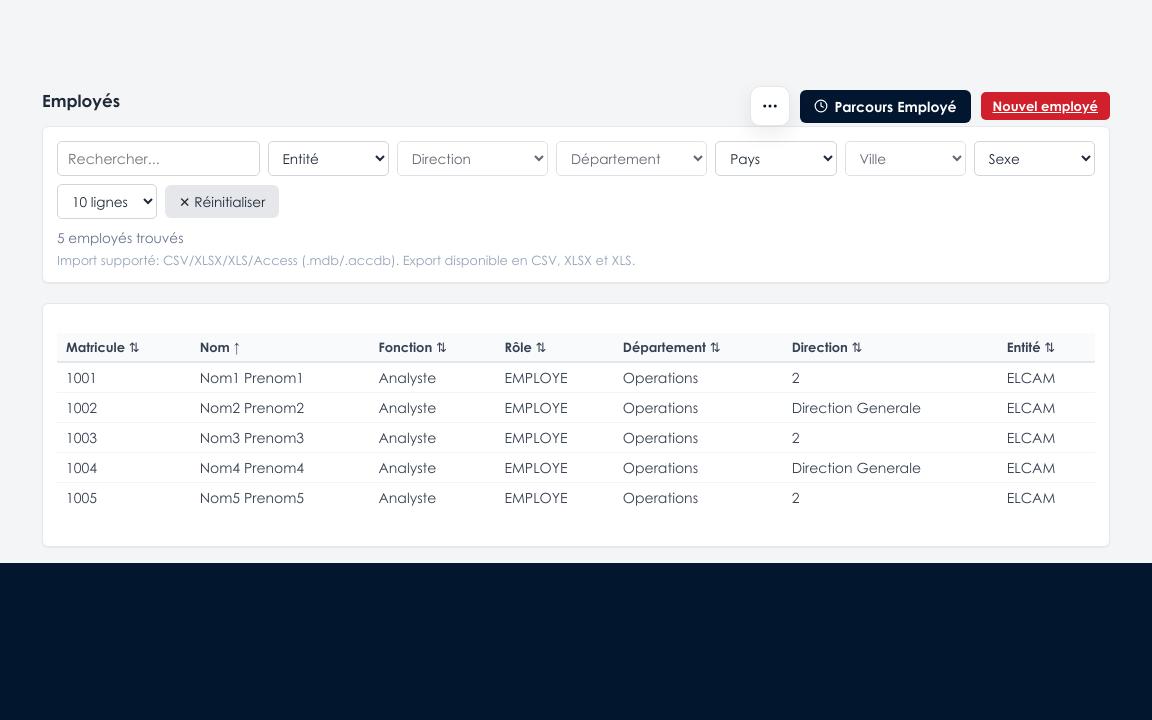
Test case: Employees page › filters employees by sexe (Masculin / Féminin)
This screenshot has width=1152, height=720.
Expected: the text "5 employés trouvés" is shown, [57,229,184,246]
Step 1. Select "Masculin" in the dropdown named "filtrer par sexe" → (1034, 158), box [974,141,1095,176]
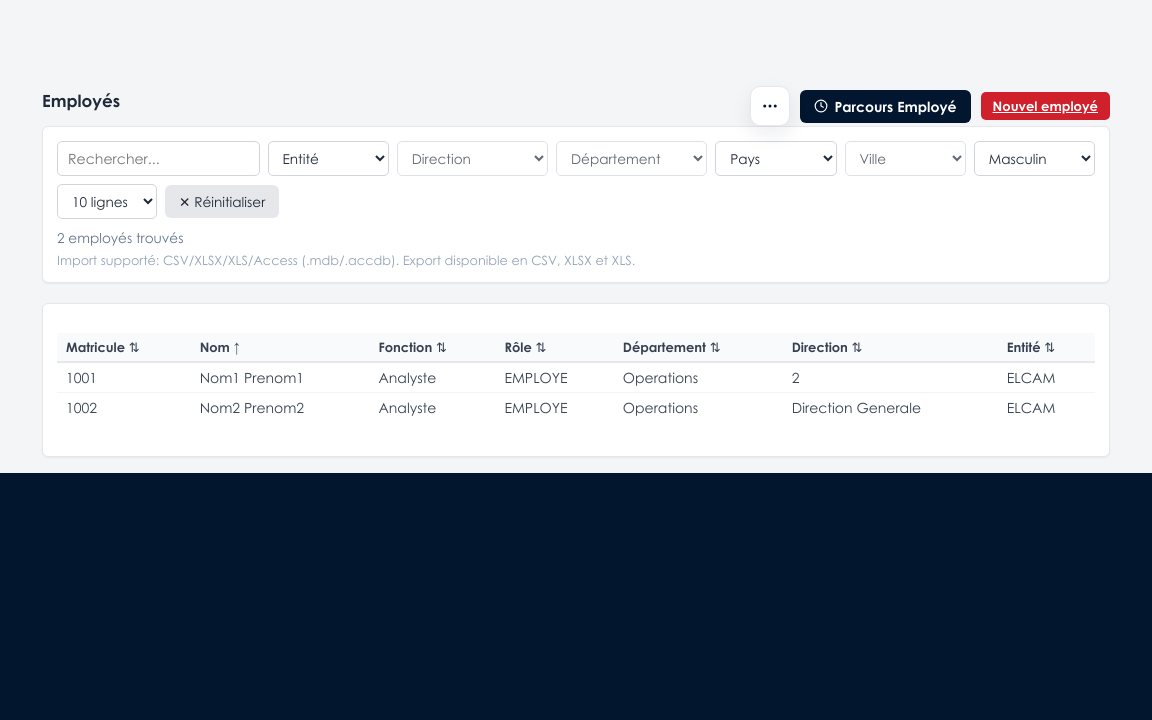
Result: the text "2 employés trouvés" is shown at [57,229,184,246]
Step 2. Select "Féminin" in the dropdown named "filtrer par sexe" → (1034, 158), box [974,141,1095,176]
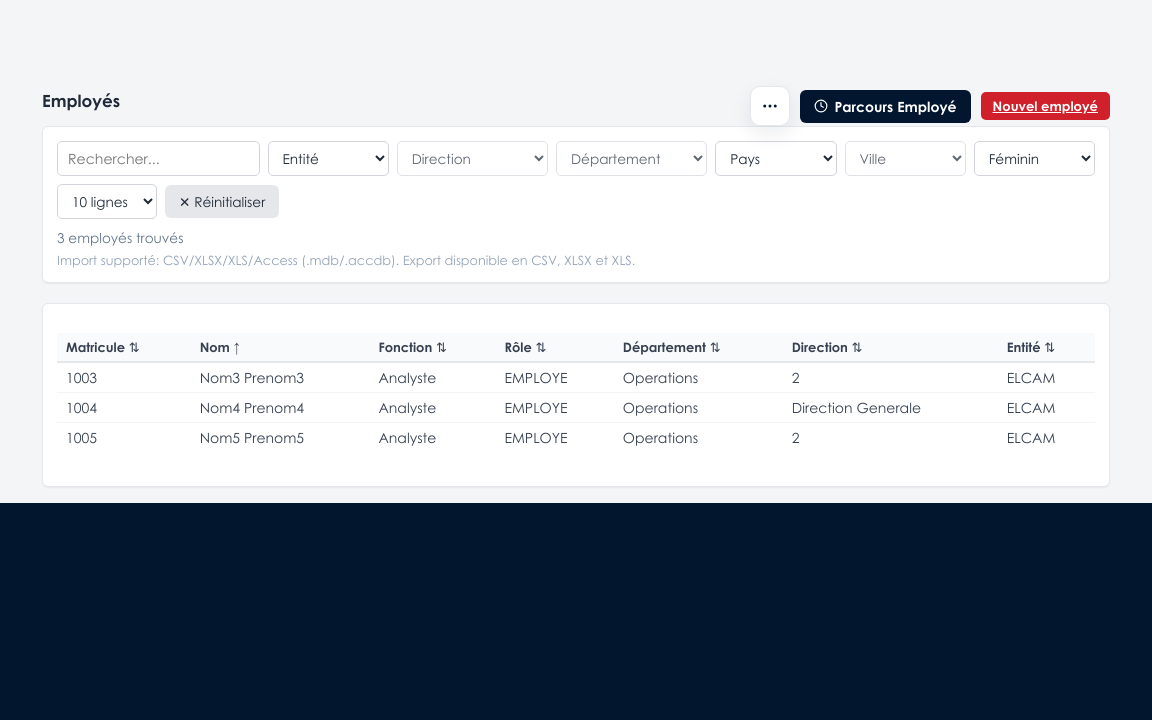
Result: the text "3 employés trouvés" is shown at [57,229,184,246]
Step 3. Select "Sexe" in the dropdown named "filtrer par sexe" → (1034, 158), box [974,141,1095,176]
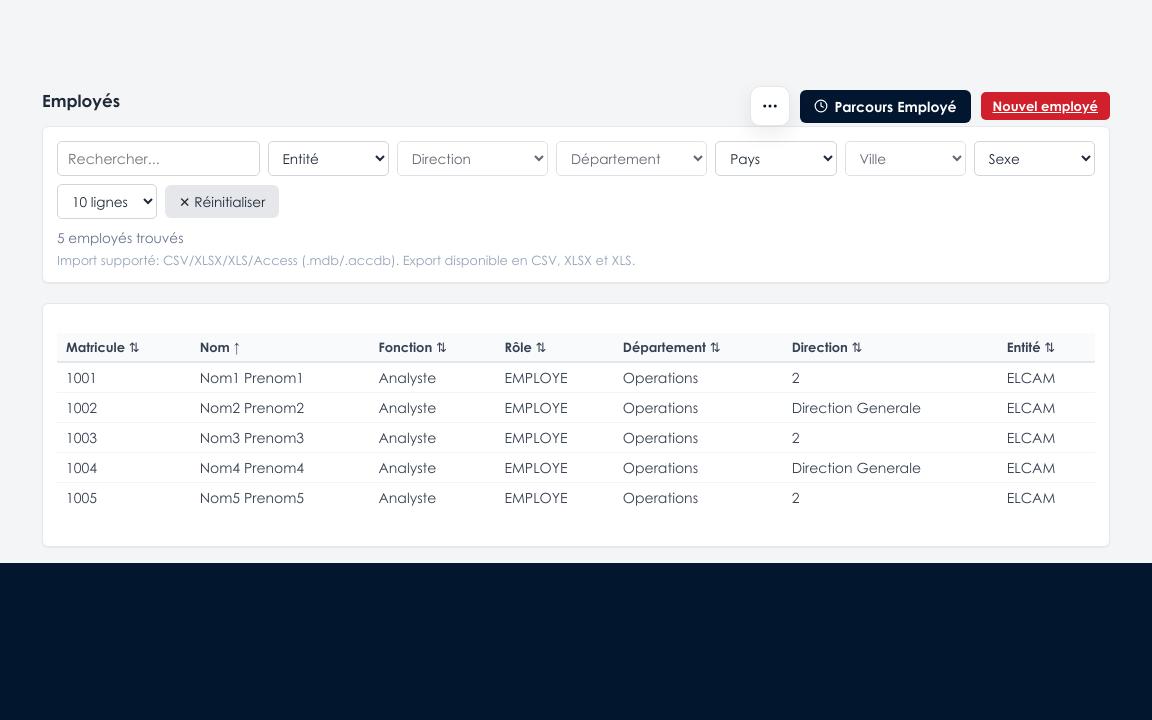
Result: the text "5 employés trouvés" is shown at [57,229,184,246]
